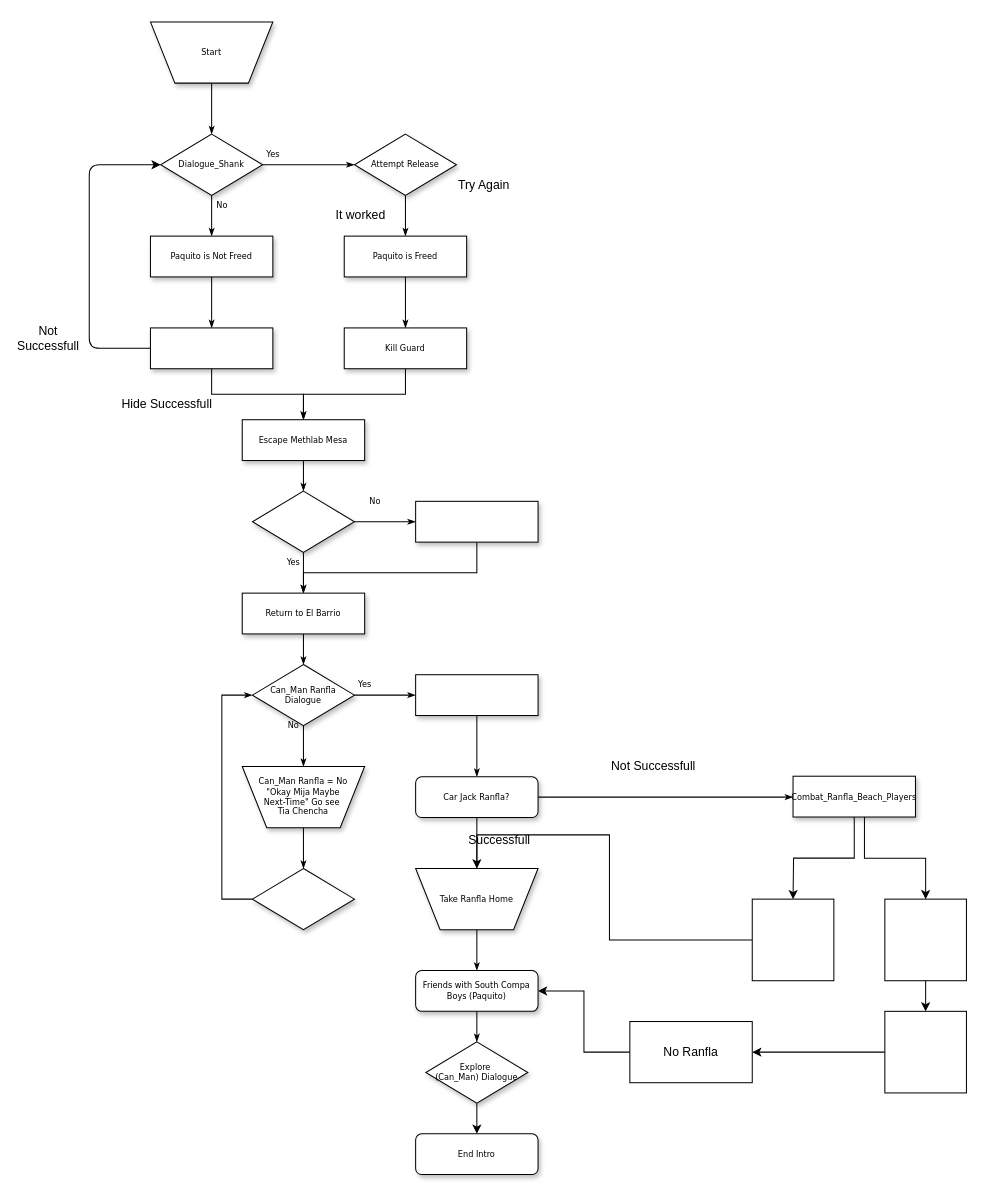
Image size: 984x1200. Some labels were removed from this diagram. Here are the shapes that lost their labels. From the top down, the centre of each, then its label:
At point (212, 349): "Hide In Box".
At point (304, 522): "Stay with Paquito".
At point (477, 522): "Paquito follows anyways".
At point (477, 696): "Find Stolen Ranfla in Ranfla Heights".
At point (304, 900): "Tia Chencha Gat Training Send back to Can_man".
At point (792, 939): "Combat Win".
At point (925, 939): "Combat Loss".
At point (925, 1051): "Tia Chencha Saves Yo Bust ass".
